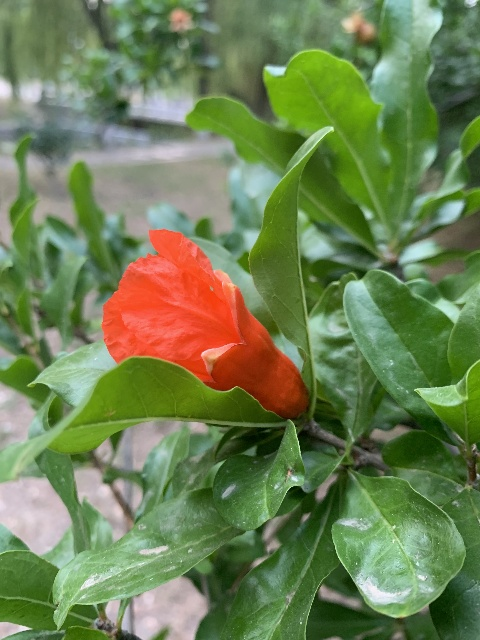early-fruit: (341, 9, 377, 44)
flower: (100, 229, 307, 420)
